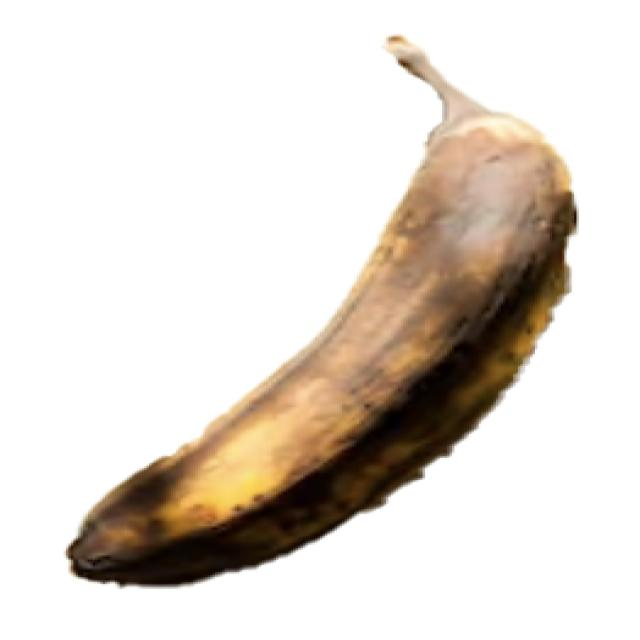rotten-banana: (63, 32, 579, 588)
